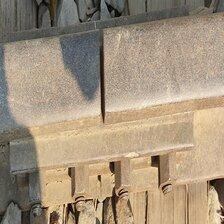railway-gap: (34, 18, 169, 138)
